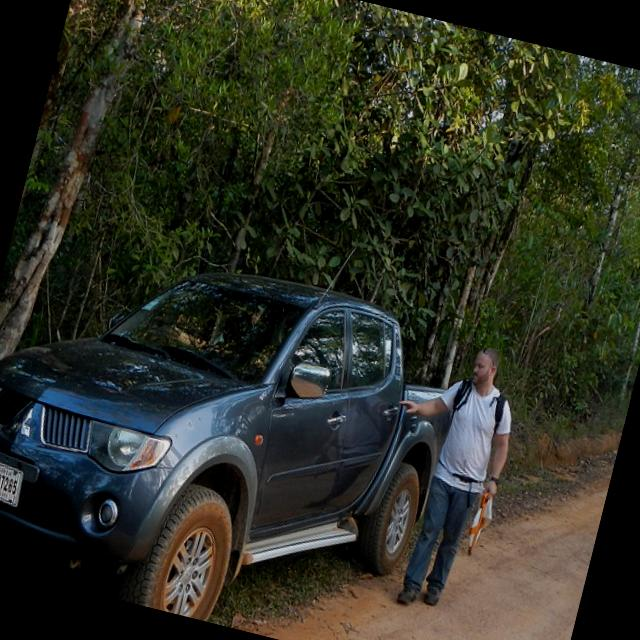Vehicle: (0, 209, 469, 640)
